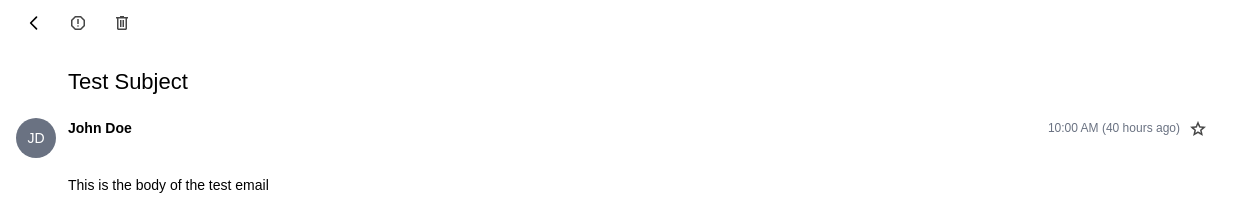
Test case: EmailDetail › Toggle Functionality › toggles email details visibility when header is clicked multiple times
Expected: the text "<john@example.com>" is not shown
Note: Click to show
Click the text "John Doe": (100, 128) [60, 110, 1216, 146]
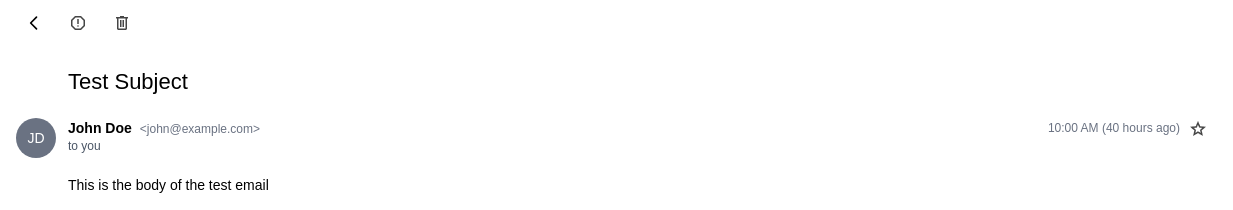
Expected: the text "<john@example.com>" is shown, [140, 121, 260, 137]
Note: Click to hide again
Click the text "John Doe": (100, 128) [60, 110, 1216, 162]
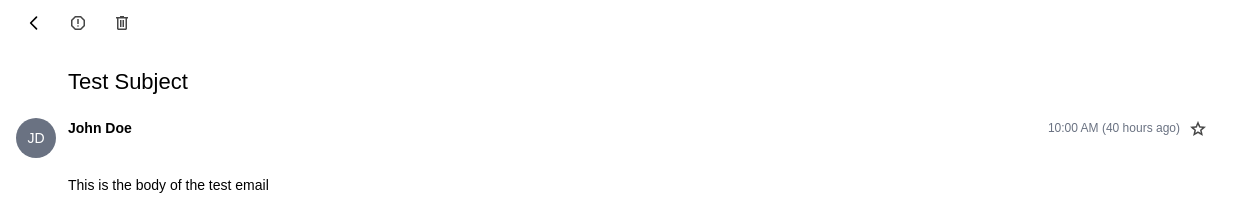
Expected: the text "<john@example.com>" is gone
